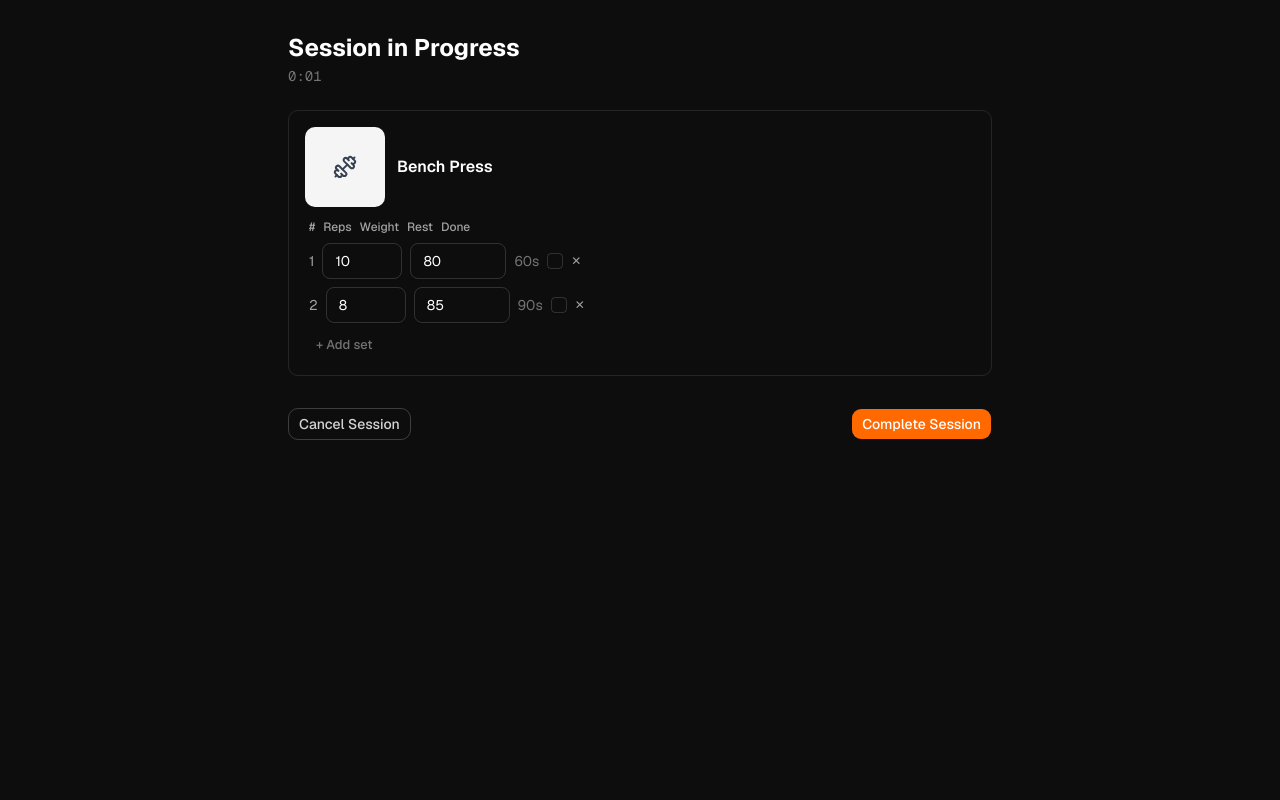
it: WorkoutInProgressView — removing sets › clicking ✕ opens the Remove Set confirmation modal
The width and height of the screenshot is (1280, 800).
Click the button "✕" in the row of "60". click: point(576, 261)
box: [571, 253, 581, 269]
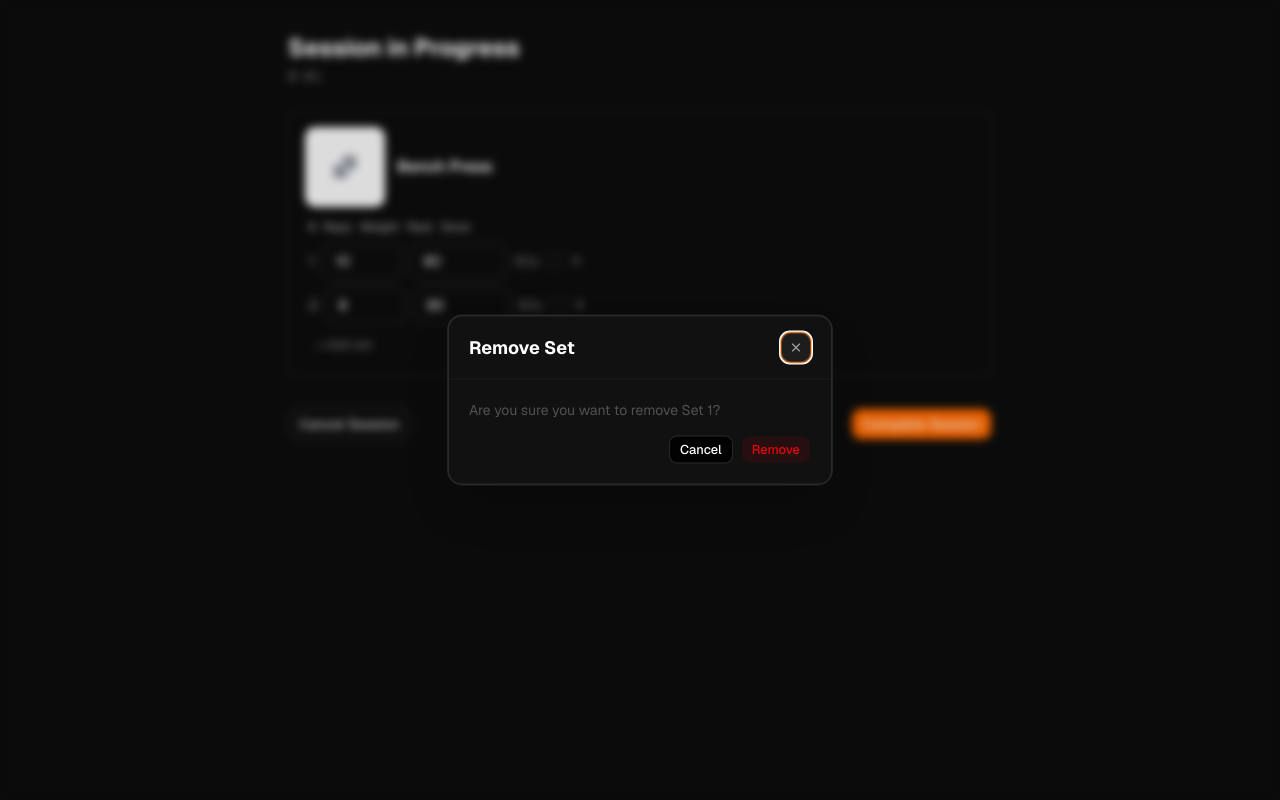
Check: the heading "Remove Set" is shown, box [469, 335, 575, 360]
